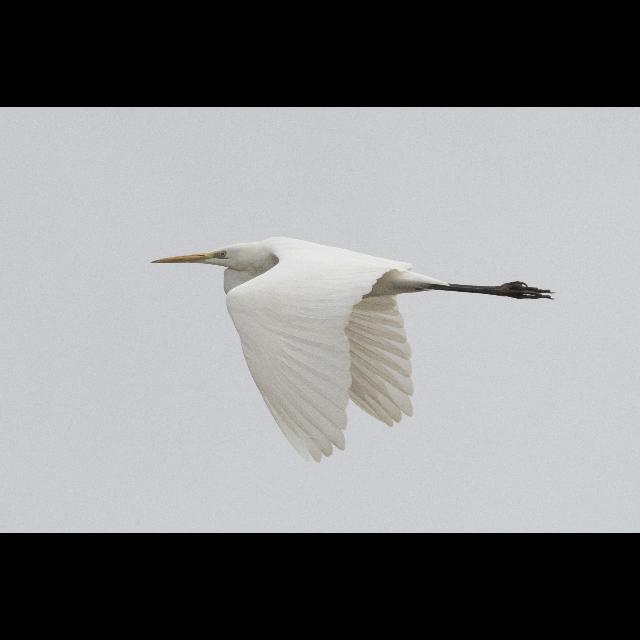egret: (148, 234, 556, 466)
